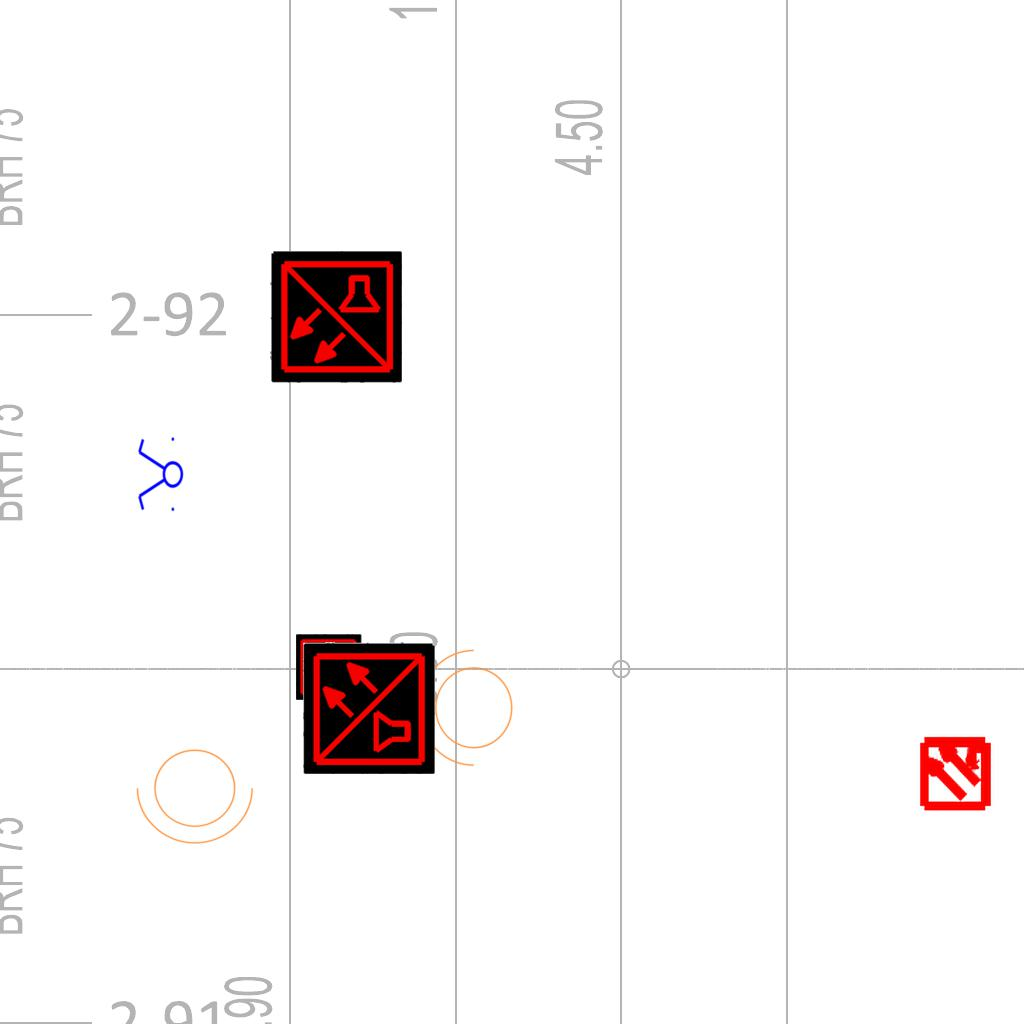OKW_Multisensormelder_(Kombination_optischer_Rauch-Kahlenmonoxid_Waerme-Melder): (270, 251, 402, 383), (303, 642, 435, 774), (296, 634, 362, 700)
OT_Multisensormelder_(Kombination_RMO_WMD): (899, 715, 1012, 828)
Scheinwerfer_fuer_Alarmbeleuchtung: (413, 645, 525, 777), (132, 737, 264, 849)
Serienschalter: (136, 433, 184, 517)
